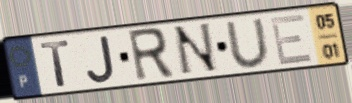E: (268, 12, 316, 67)
J: (84, 33, 117, 85)
N: (171, 21, 222, 79)
R: (125, 25, 177, 84)
T: (38, 38, 73, 89)
U: (223, 16, 273, 70)
